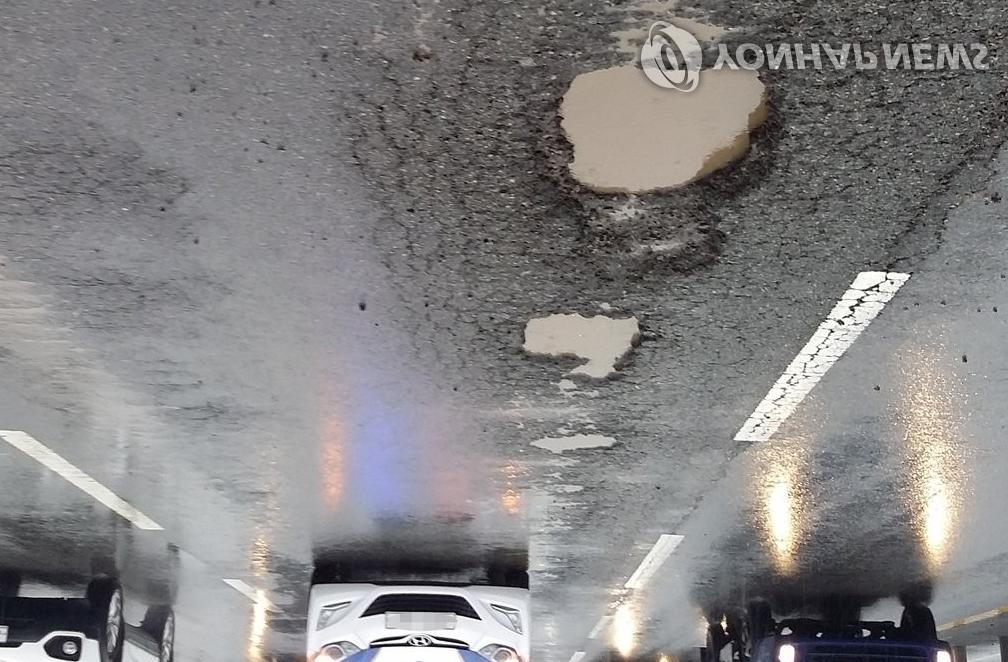pothole: (479, 45, 837, 221), (500, 303, 656, 387), (514, 429, 619, 459), (516, 474, 602, 507)
